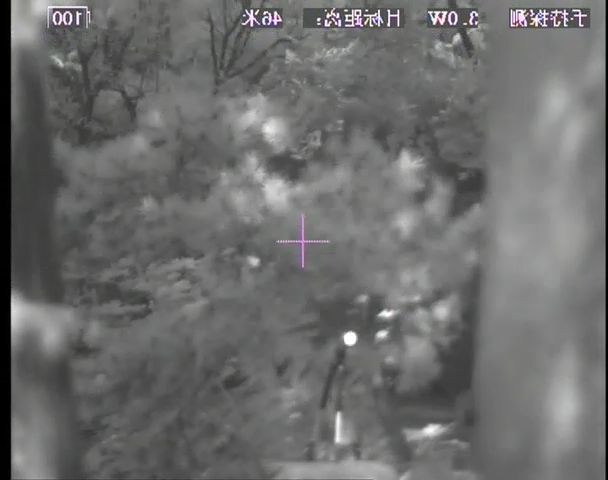my: (342, 330, 358, 347)
